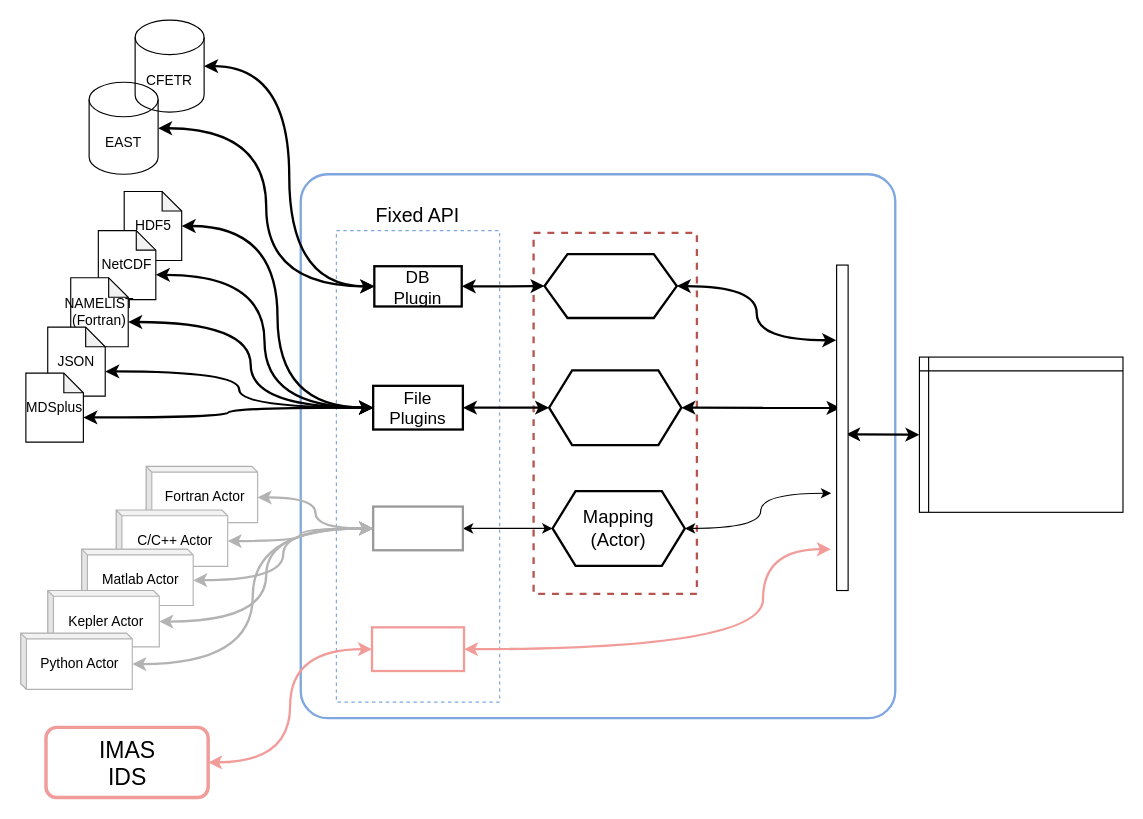
The diagram is 1143 pixels wide and 819 high, and some of its shapes have lost their labels. Here are the shapes that lost their labels. From the top down, the box of each, then its label:
(543, 252, 677, 319): Mapping (Device)
(547, 369, 682, 446): Mapping (File)
(532, 231, 697, 595): Configurable Mapping
(299, 172, 896, 719): SpDB (python)
(918, 356, 1123, 512): Hierarchical Tree (IMAS DD)
(371, 505, 463, 551): Actor Plugins
(370, 626, 465, 672): IDS Plugin
